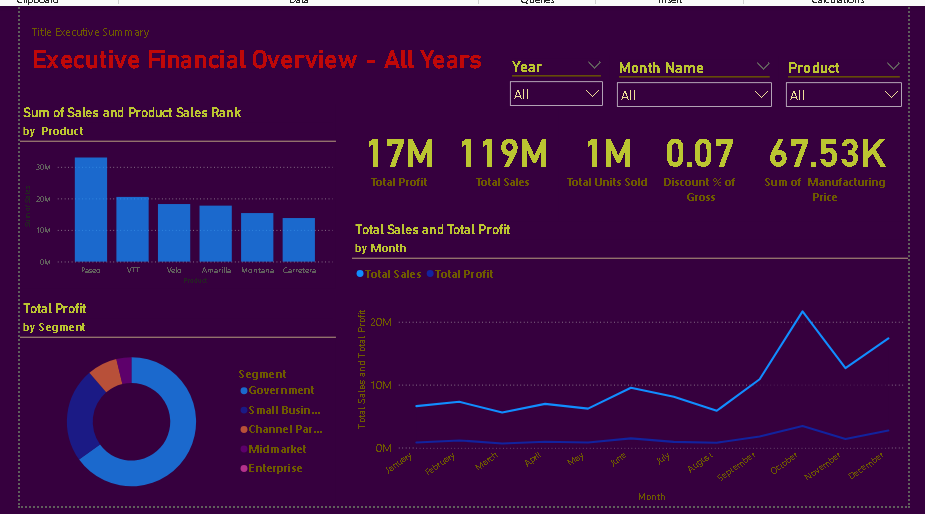

What the dashboard file says about the page in this screenshot:
{"tool":"powerbi","page":{"name":"Page 1","canvas":[1280,720],"ordinal":0},"visuals":[{"type":"lineChart","fields":{"Category":["DimDate.Date.Variation.Date Hierarchy.Month","DimDate.Date.Variation.Date Hierarchy.Day"],"Y":["Financials.Total Sales","Financials.Total Profit"]},"box":[478.1,309.6,802.1,410.4],"z":0},{"type":"cardVisual","fields":{"Data":["Financials.Title Executive Summary"]},"box":[0,0,694.1,122.4],"z":1000},{"type":"card","fields":{"Values":["Financials.Total Profit"]},"box":[478.1,121,136.8,188.6],"z":2000},{"type":"card","fields":{"Values":["Financials.Total Sales"]},"box":[614.9,121,161.3,188.6],"z":3000},{"type":"card","fields":{"Values":["Financials.Total Units Sold"]},"box":[776.2,121,139.7,188.6],"z":4000},{"type":"donutChart","fields":{"Category":["Financials.Segment"],"Y":["Financials.Total Profit"]},"box":[0,423.4,455,296.6],"z":5000},{"type":"columnChart","fields":{"Category":["Financials. Product "],"Y":["Sum(Financials.  Sales )"]},"box":[0,141.1,455,265],"z":6000},{"type":"card","fields":{"Values":["Financials.Discount % of Gross"]},"box":[915.8,121,126.7,188.6],"z":7000},{"type":"card","fields":{"Values":["Sum(Financials. Manufacturing Price )"]},"box":[1042.6,121,237.6,188.6],"z":8000},{"type":"slicer","fields":{"Values":["Financials. Product "]},"box":[1093,72,187.2,76.3],"z":9000},{"type":"slicer","fields":{"Values":["DimDate.Month Name"]},"box":[849.6,72,243.4,76.3],"z":10000},{"type":"slicer","fields":{"Values":["DimDate.Year"]},"box":[695.5,70.6,154.1,77.8],"z":11000}]}

Visuals, with their boxes on the page's 1280x720 design canvas (x1, y1, x2, y2). These are canvas units, not pixel positions in the 925x514 screenshot, which may show the page scaled, cropped or inside an application window:
lineChart - DimDate.Date.Variation.Date Hierarchy.Month x DimDate.Date.Variation.Date Hierarchy.Day: pyautogui.locateOnScreen(478, 310, 1280, 720)
cardVisual - Financials.Title Executive Summary: pyautogui.locateOnScreen(0, 0, 694, 122)
card - Financials.Total Profit: pyautogui.locateOnScreen(478, 121, 615, 310)
card - Financials.Total Sales: pyautogui.locateOnScreen(615, 121, 776, 310)
card - Financials.Total Units Sold: pyautogui.locateOnScreen(776, 121, 916, 310)
donutChart - Financials.Segment x Financials.Total Profit: pyautogui.locateOnScreen(0, 423, 455, 720)
columnChart - Financials. Product  x Sum(Financials.  Sales ): pyautogui.locateOnScreen(0, 141, 455, 406)
card - Financials.Discount % of Gross: pyautogui.locateOnScreen(916, 121, 1042, 310)
card - Sum(Financials. Manufacturing Price ): pyautogui.locateOnScreen(1043, 121, 1280, 310)
slicer - Financials. Product : pyautogui.locateOnScreen(1093, 72, 1280, 148)
slicer - DimDate.Month Name: pyautogui.locateOnScreen(850, 72, 1093, 148)
slicer - DimDate.Year: pyautogui.locateOnScreen(696, 71, 850, 148)
